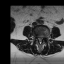CCS_normal: (39, 37, 41, 45)
LFS_severe_stenosis: (43, 35, 45, 40)
LLS_severe_stenosis: (41, 36, 43, 42)
RFS_severe_stenosis: (35, 35, 37, 40)
RLS_severe_stenosis: (37, 36, 39, 43)
